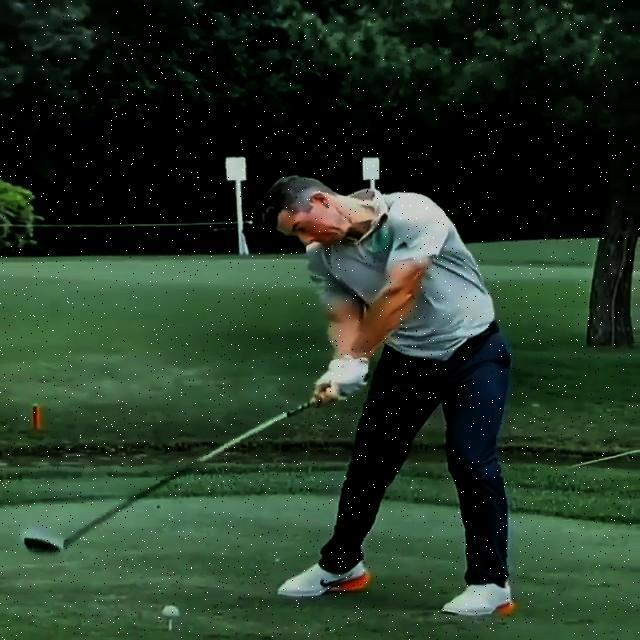ClubHandle: (25, 374, 371, 554)
ClubHead: (23, 537, 63, 555)
